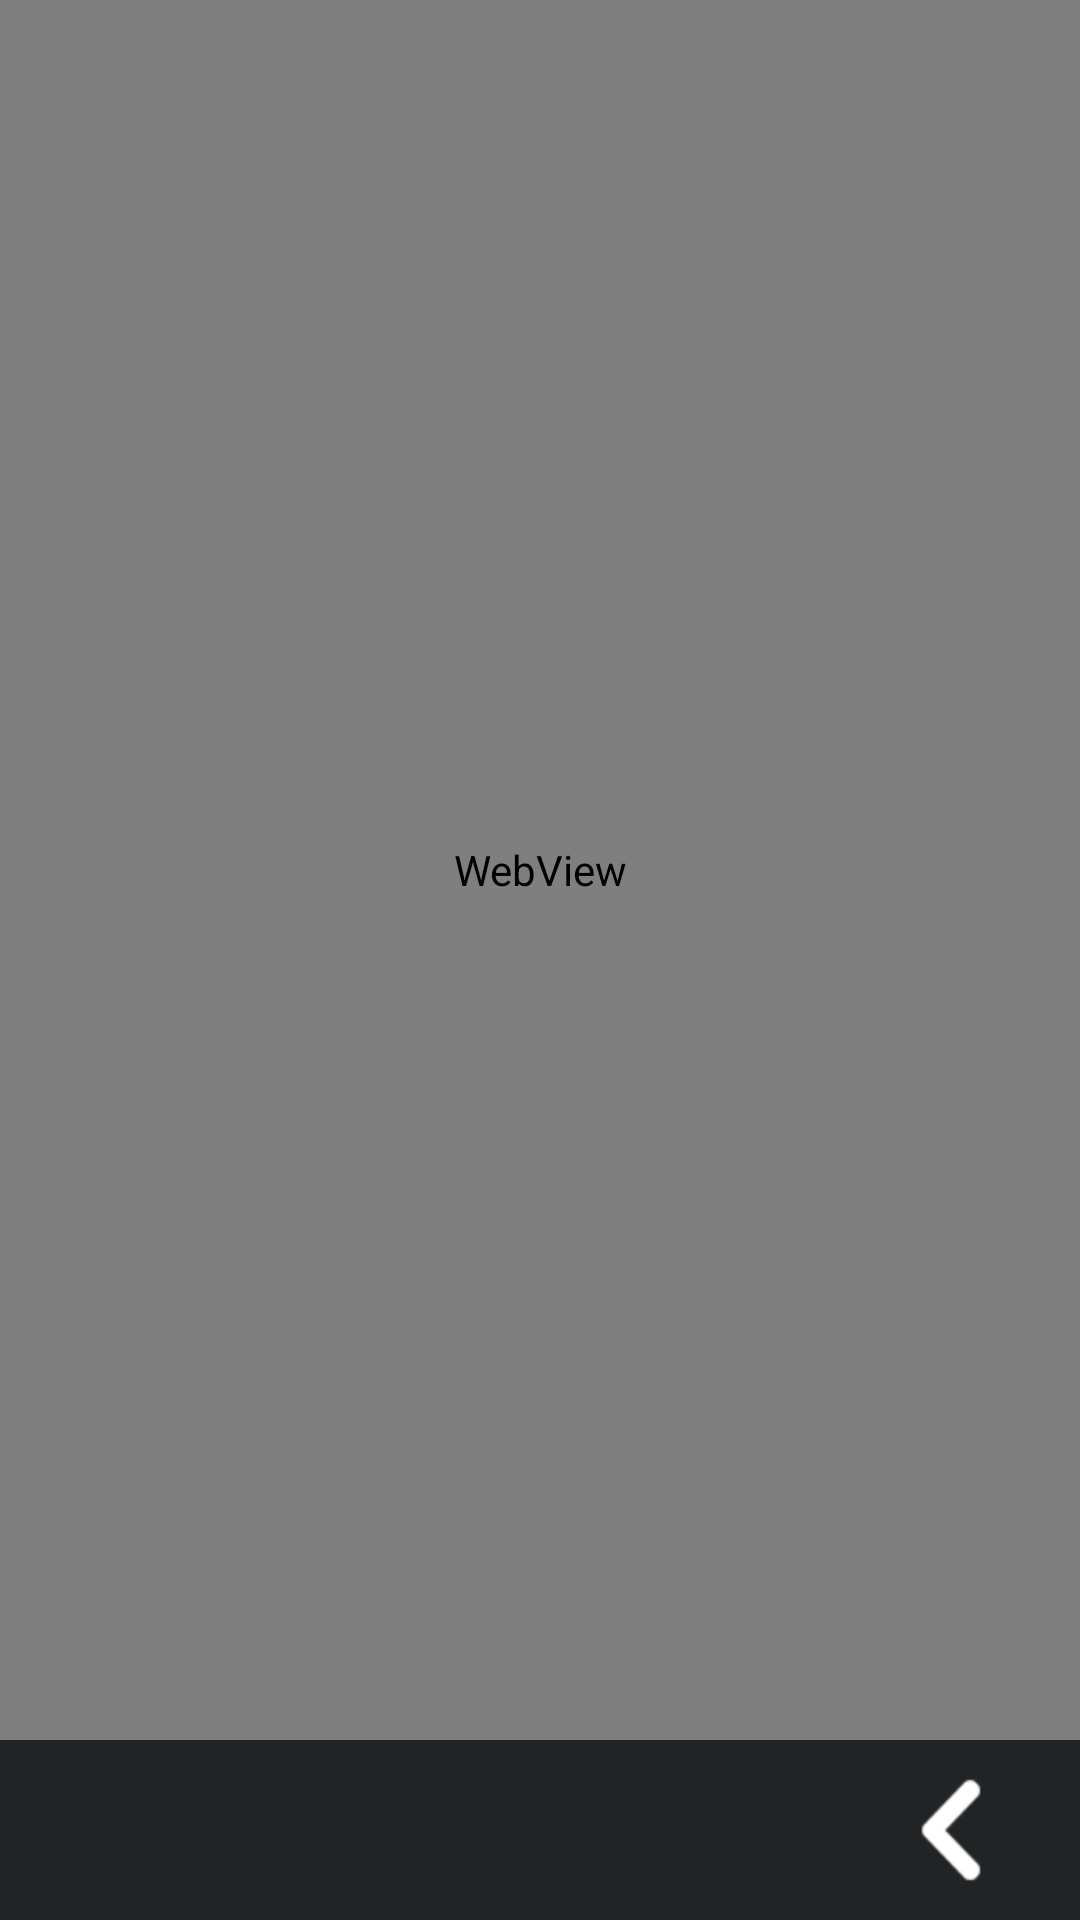

Point at icon controls on the screen. Image size 1080px×1920px, points as [x,y].
bottom back: [951,1830]
